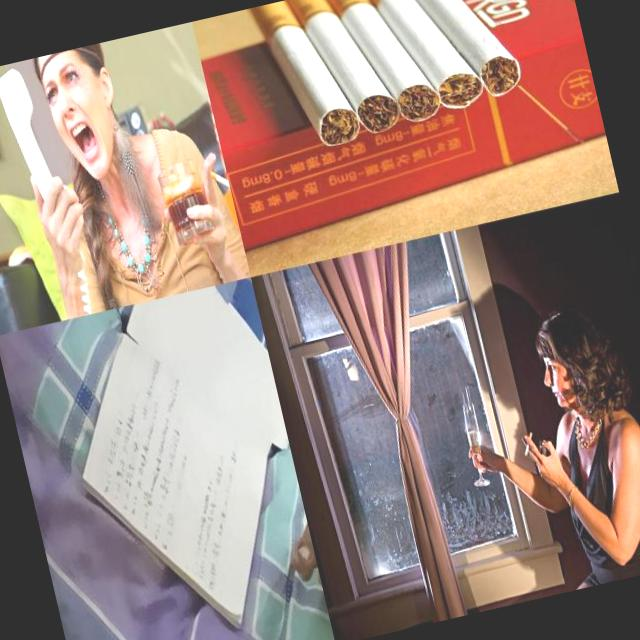smoke: (248, 0, 364, 157), (287, 0, 404, 146), (323, 0, 444, 136), (358, 0, 488, 125), (396, 0, 528, 113), (205, 162, 232, 205), (519, 431, 538, 458)
